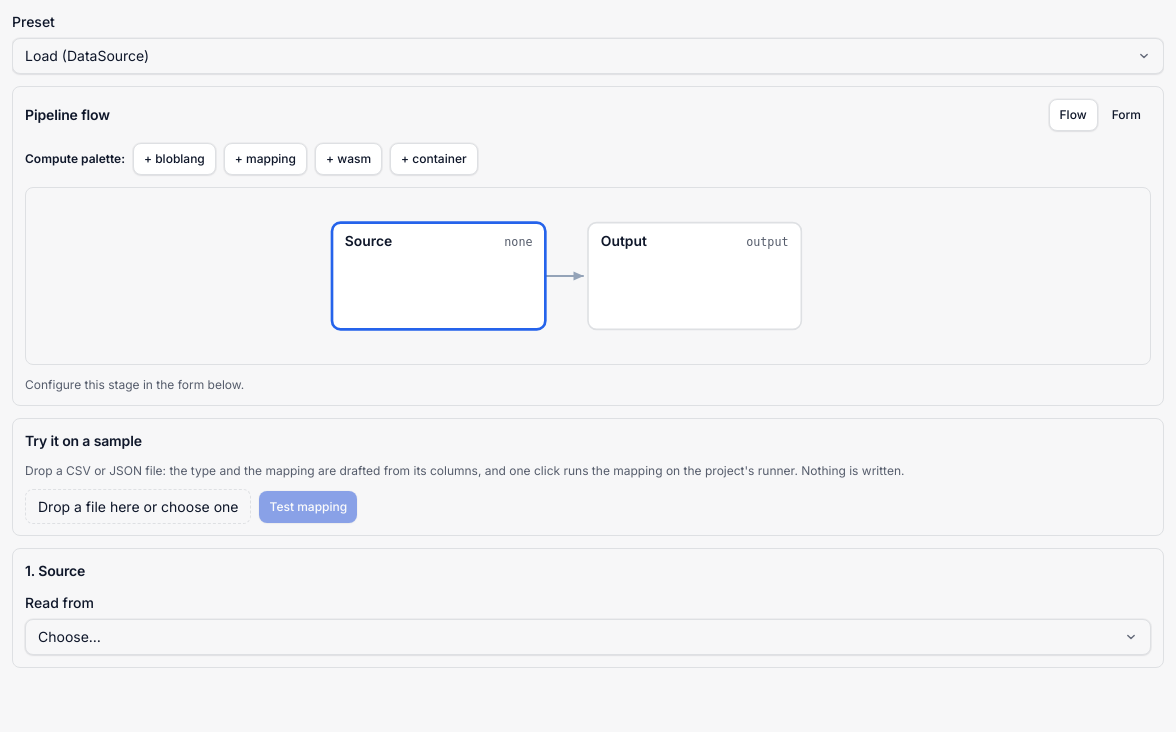
Test: PipelineStudio KPI preset › shows the trace's first error instead of nothing when the mapping fails
Select "Analyse (KPI)" in the dropdown labelled "Preset". click: [588, 56]
box: [12, 38, 1164, 74]
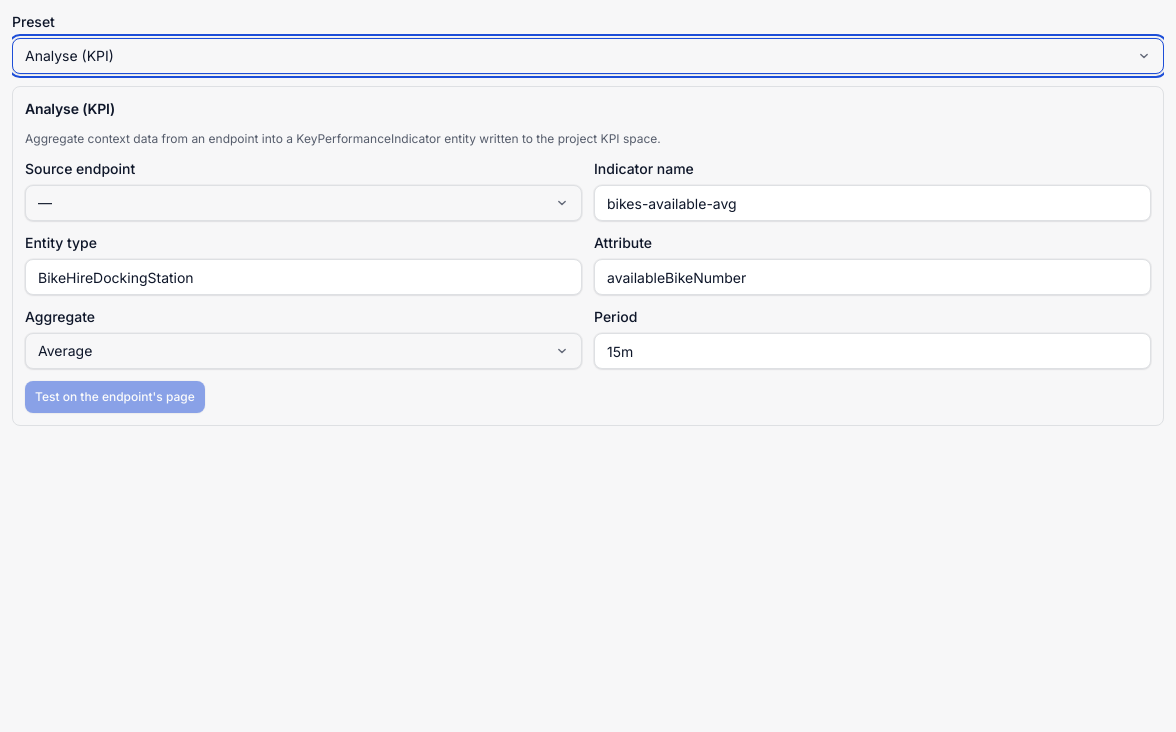
Select "helsinki-all" in the dropdown labelled "Source endpoint". click: [304, 203]
box: [25, 185, 582, 221]
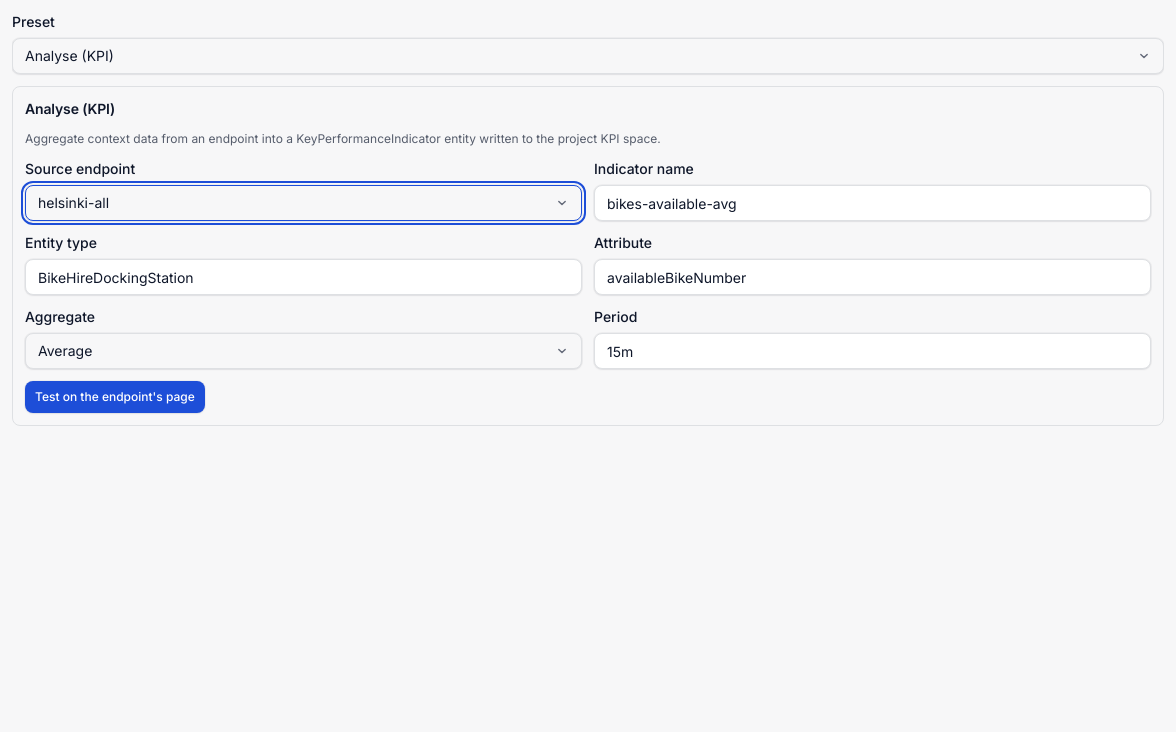
Click the button with test id "studio-kpi-test". click: [115, 397]
box: [25, 381, 205, 413]
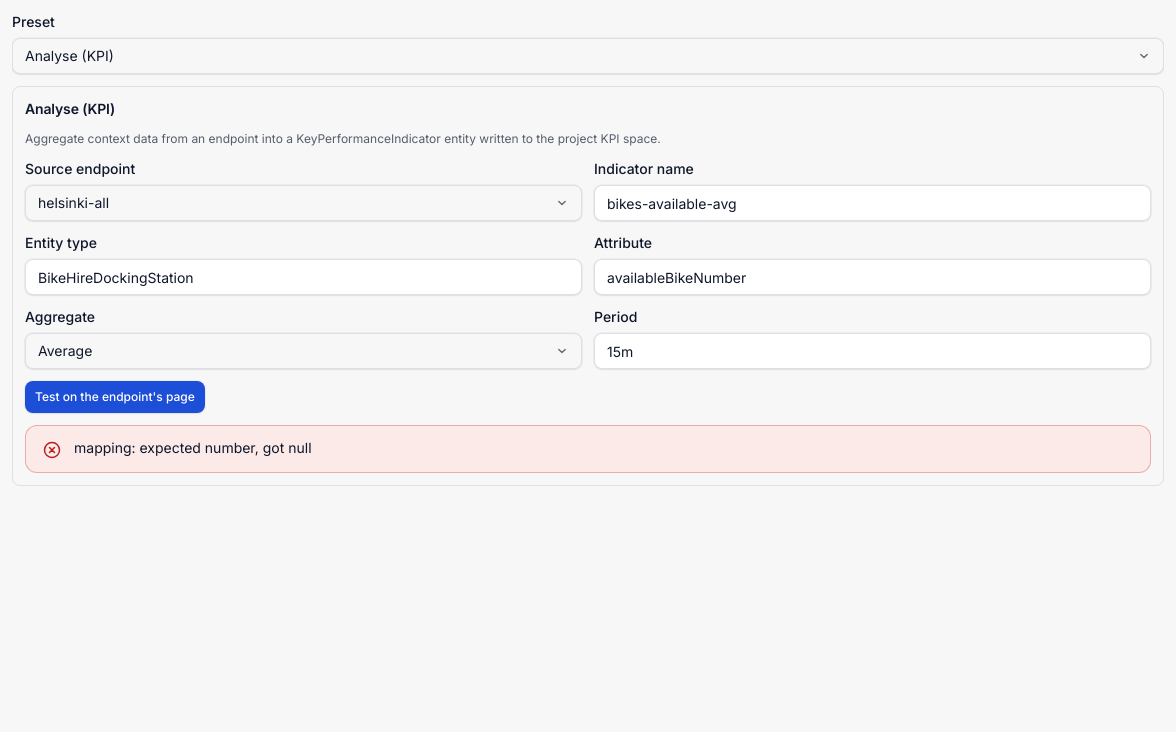
expect the message reads "mapping: expected number, got null": met, box [74, 439, 312, 456]
